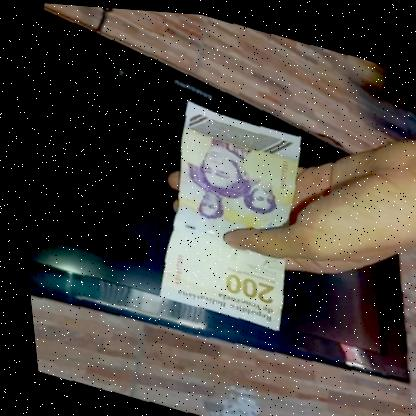two_hundred-front-vef: (137, 95, 320, 332)
